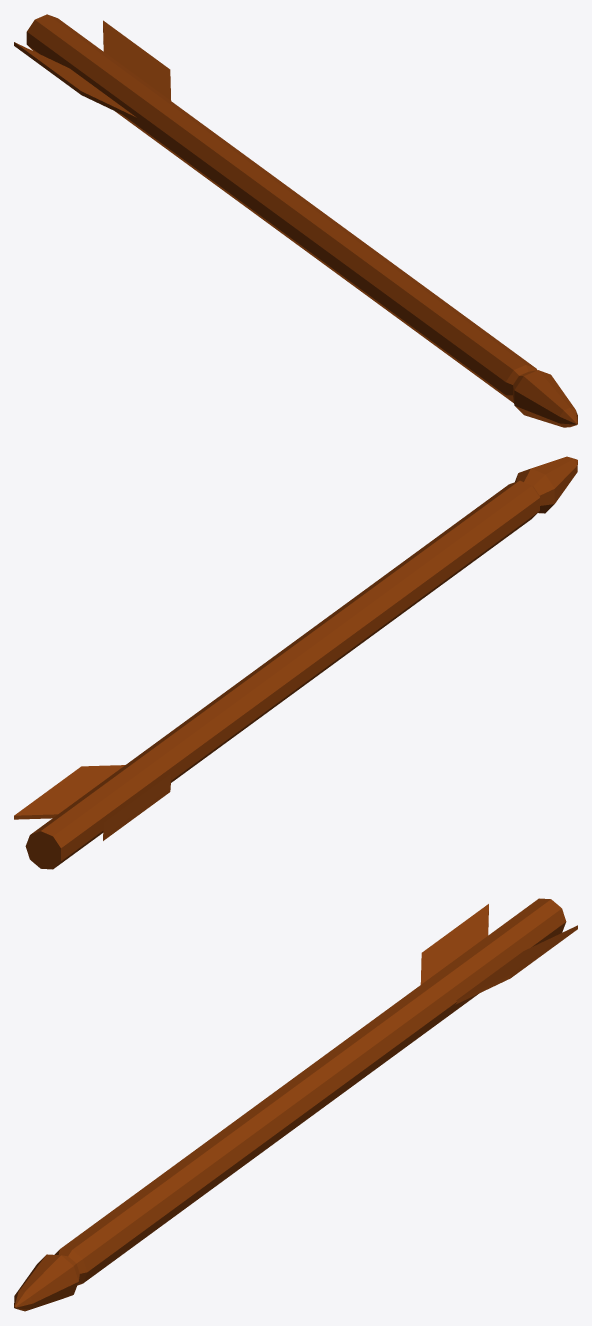
Rendered from flecha.obj.
3 views of the same model, one above another, from view 1: azimuth 30°, elevation 25°; view 2: azimuth 150°, elevation 25°; view 3: azimuth 330°, elevation 25° (orthographic).
Parts seen in each view (by area): view 1: Cylinder019; view 2: Cylinder019; view 3: Cylinder019.
Part boxes in pixels (x1=…): Cylinder019: x1=14, y1=14, x2=577, y2=427; Cylinder019: x1=14, y1=456, x2=577, y2=869; Cylinder019: x1=14, y1=898, x2=577, y2=1311.
Bounding box in the file's own units: 0.9572 × 0.4548 × 9.94.
